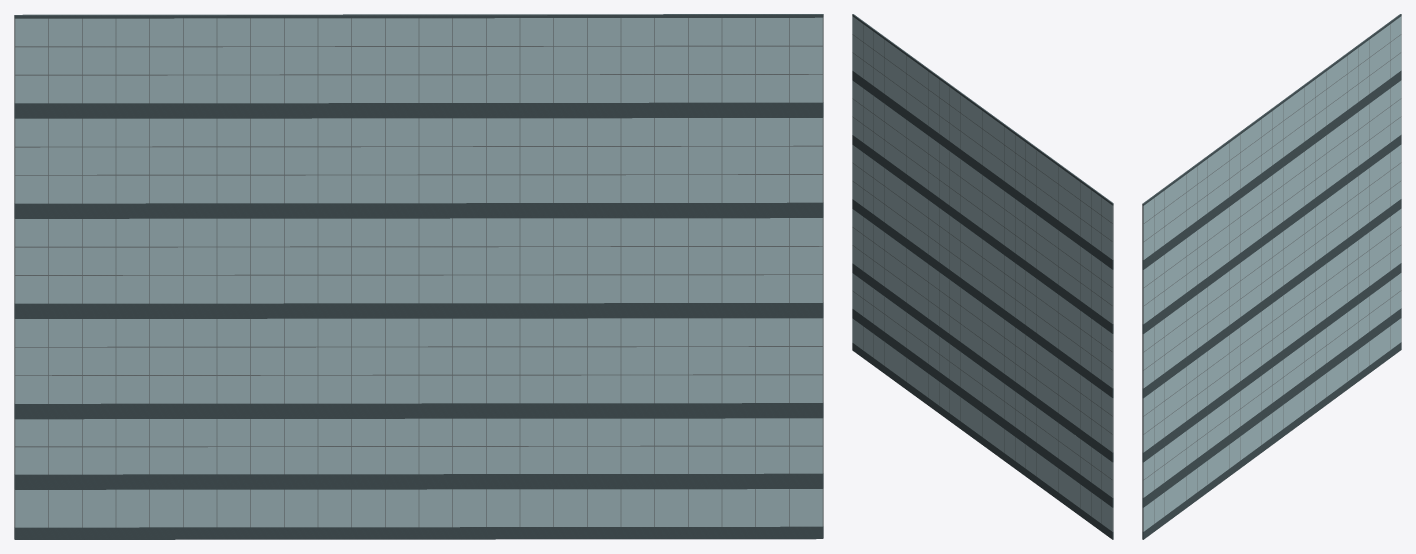
File: G7_Completion_Prior_G7_MiddleExteriorSkin_E14_r001.glb
The picture shows the model from 3 angles, left to right: view 1: azimuth 30°, elevation 25°; view 2: azimuth 150°, elevation 25°; view 3: azimuth 270°, elevation 25°; orthographic projection. The views are drawn at different scales.
Parts seen in each view (by area): view 1: G7_MiddleSkin_E14_glazing, G7_MiddleSkin_E14_spandrel, G7_MiddleSkin_E14_joint; view 2: G7_MiddleSkin_E14_glazing, G7_MiddleSkin_E14_spandrel, G7_MiddleSkin_E14_joint; view 3: G7_MiddleSkin_E14_glazing, G7_MiddleSkin_E14_spandrel, G7_MiddleSkin_E14_joint.
Part boxes in pixels (x1,y1,x2,y2): G7_MiddleSkin_E14_glazing: (15, 17, 822, 527); G7_MiddleSkin_E14_spandrel: (14, 14, 823, 539); G7_MiddleSkin_E14_joint: (14, 17, 823, 527); G7_MiddleSkin_E14_glazing: (852, 16, 1112, 531); G7_MiddleSkin_E14_spandrel: (852, 14, 1113, 539); G7_MiddleSkin_E14_joint: (852, 24, 1113, 531); G7_MiddleSkin_E14_glazing: (1143, 16, 1401, 531); G7_MiddleSkin_E14_spandrel: (1142, 14, 1401, 539); G7_MiddleSkin_E14_joint: (1142, 16, 1401, 531).
Size of the model in its own units: 54.03 by 44.5 by 31.11.
3 materials, 2 textured.
